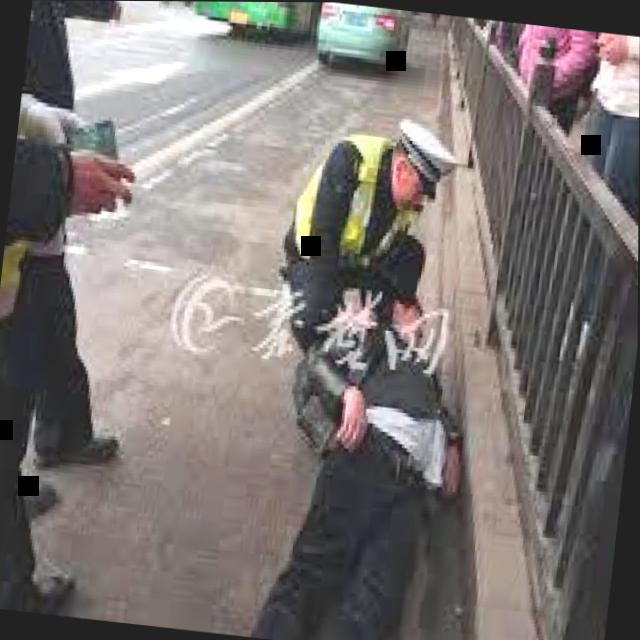Fall-Detected: (179, 258, 509, 640)
